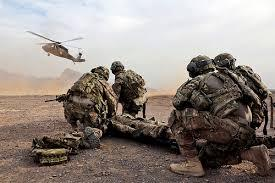Soldier: (167, 51, 275, 183), (45, 63, 119, 150), (108, 58, 153, 117)
